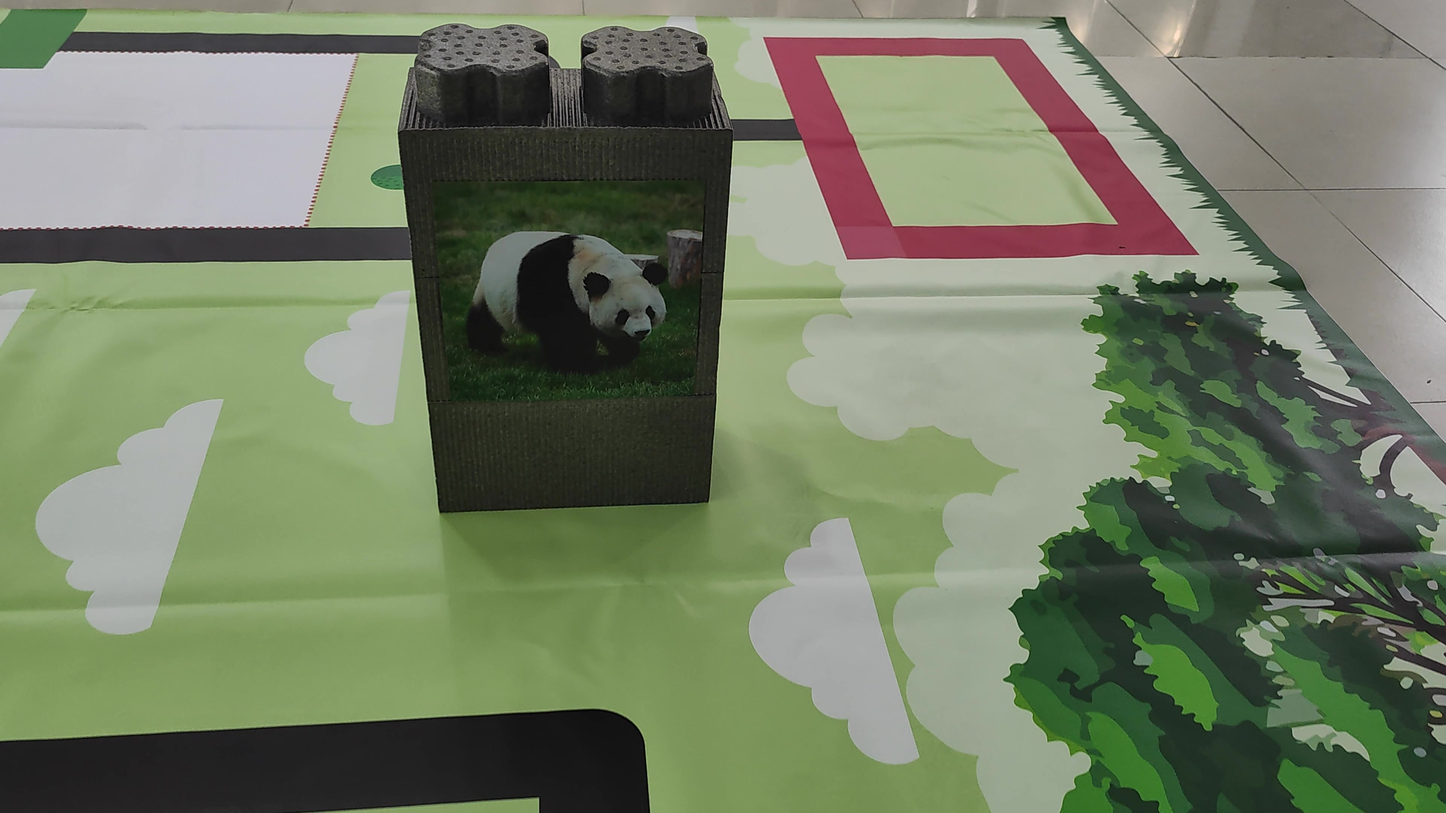panda: (442, 176, 696, 396)
